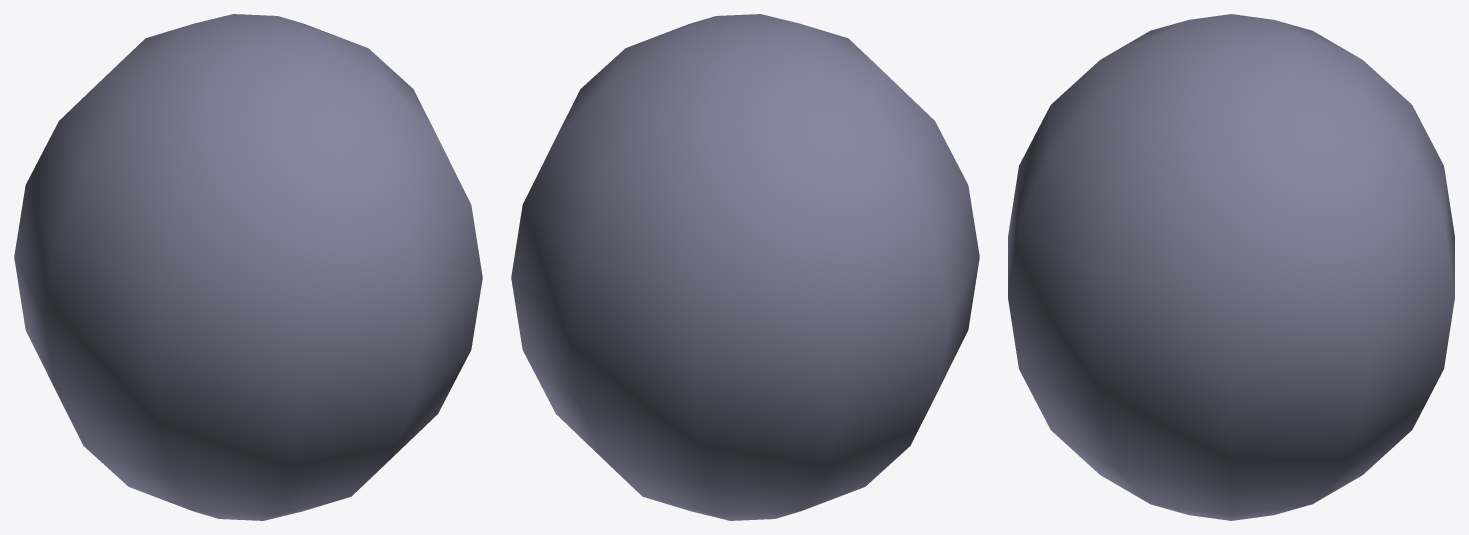
The model's file is metafalcao_stage2.obj.
The picture shows the model from 3 angles, left to right: view 1: azimuth 30°, elevation 25°; view 2: azimuth 150°, elevation 25°; view 3: azimuth 270°, elevation 25°; orthographic projection.
Bounding box in the file's own units: 2 × 2.2 × 1.9.
